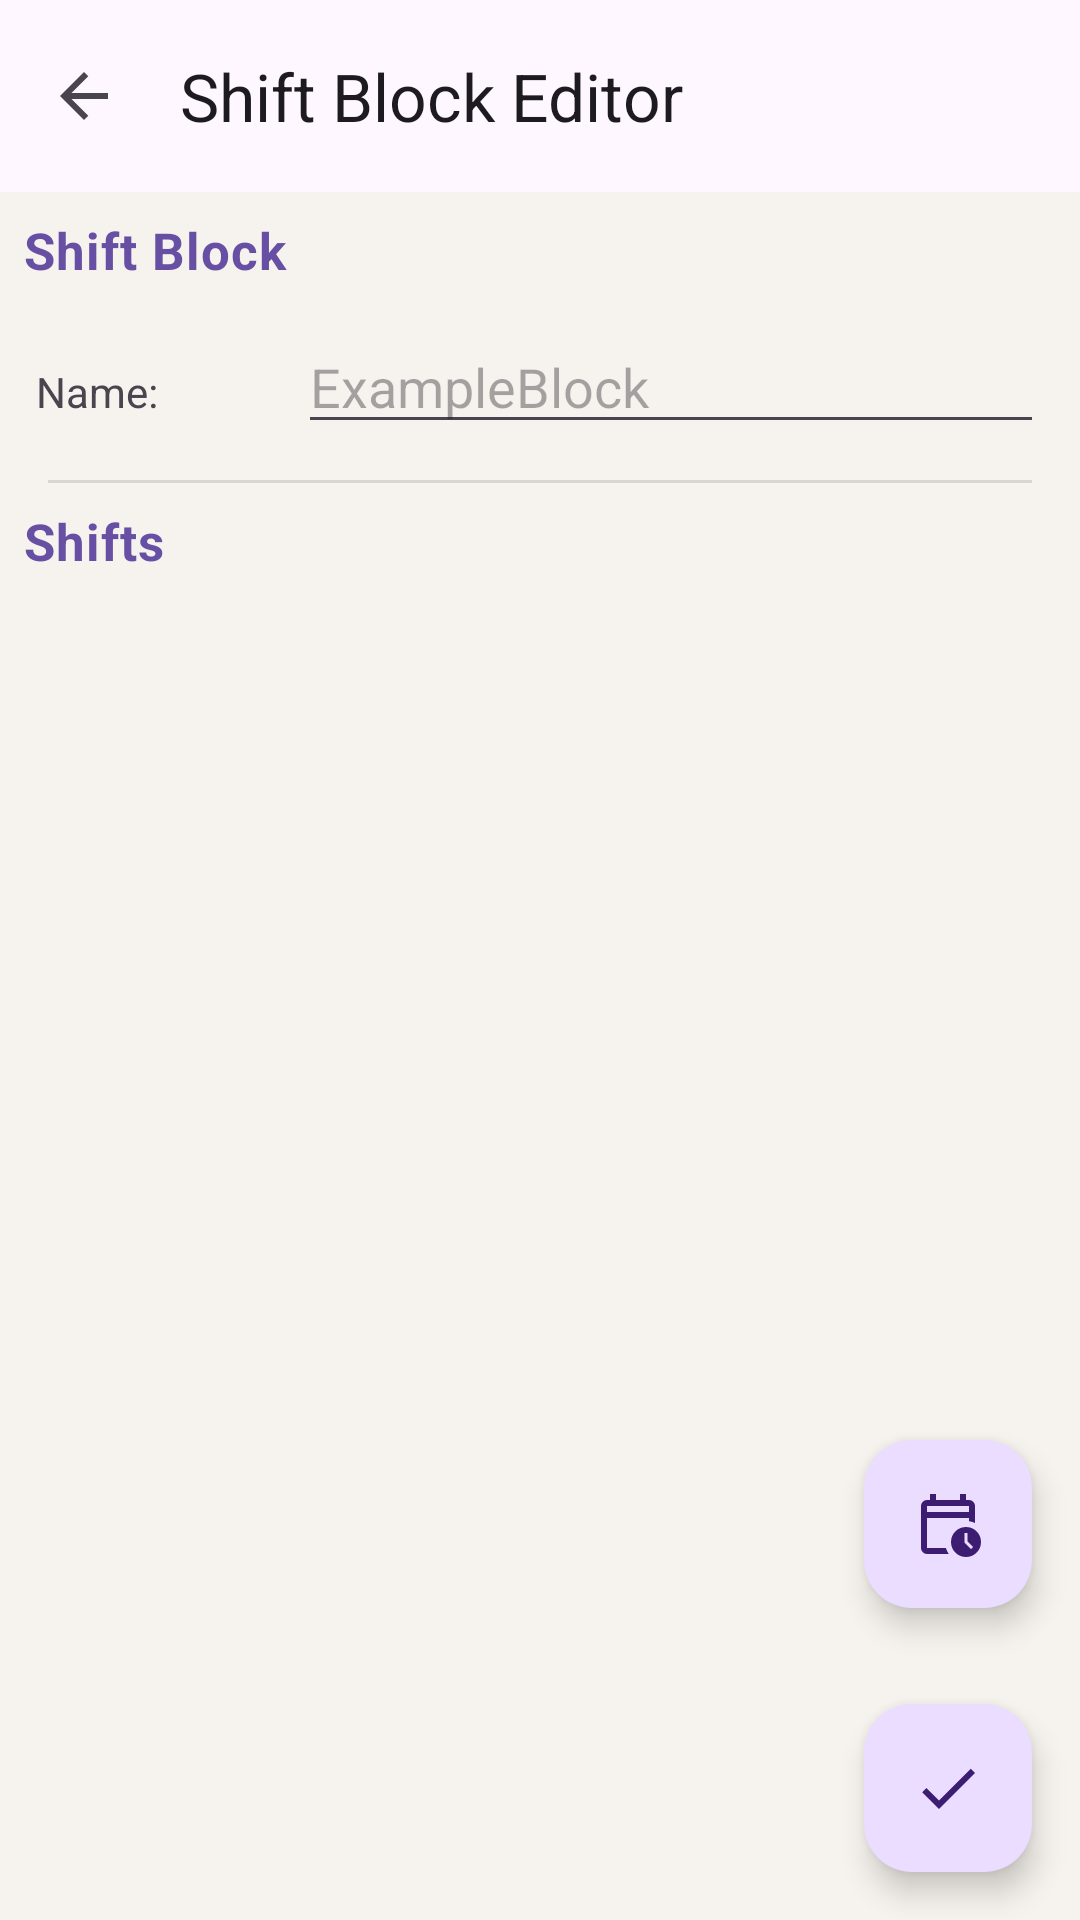

Icon click points for this 1080px x 1920px phone screenshot, format (x,y):
Done: (948,1788)
